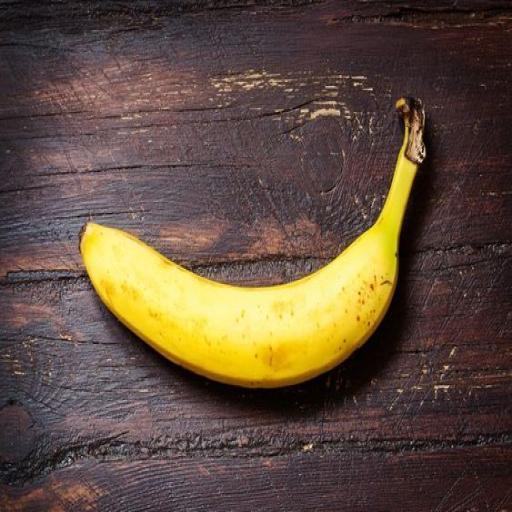banana: (81, 100, 424, 387)
